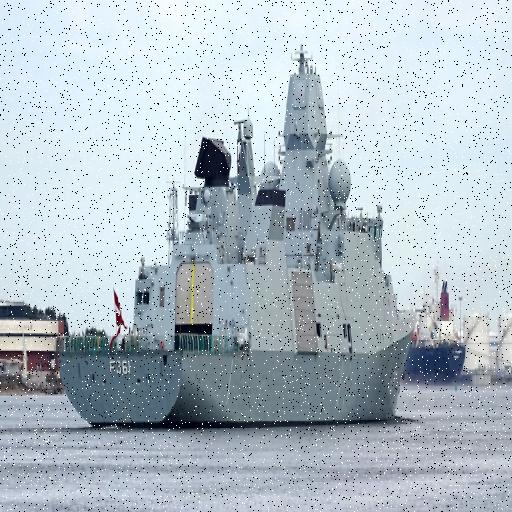Fragata: (54, 31, 421, 436)
